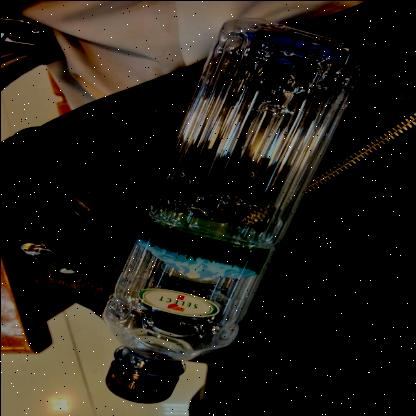Plastic Bottle: (102, 20, 366, 402)
